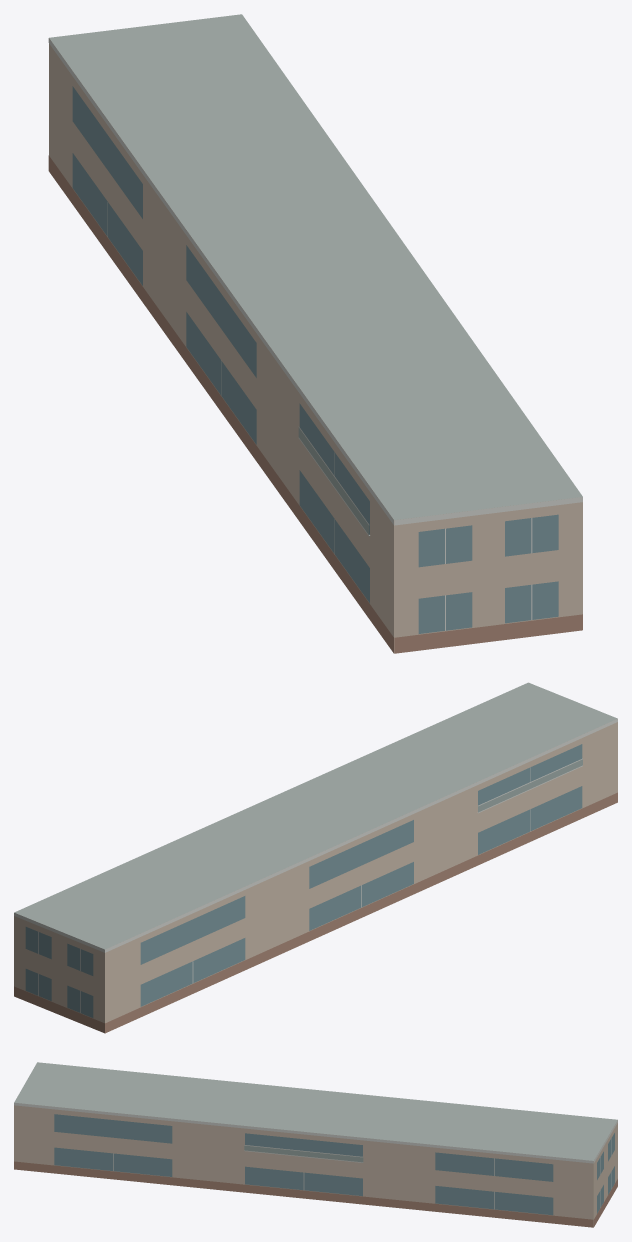
File: survey-upis-32528102.glb
3 renders of one model, top to bottom at view 1: azimuth 30°, elevation 25°; view 2: azimuth 150°, elevation 25°; view 3: azimuth 270°, elevation 25°, orthographic. The views are drawn at different scales.
Parts seen in each view (by area): view 1: survey-upis-32528102.tmp; view 2: survey-upis-32528102.tmp; view 3: survey-upis-32528102.tmp.
Part boxes in pixels (x1,y1,x2,y2): survey-upis-32528102.tmp: (48, 14, 582, 653); survey-upis-32528102.tmp: (14, 682, 617, 1033); survey-upis-32528102.tmp: (14, 1062, 617, 1227).
Bounding box in the file's own units: 19.35 × 6.1 × 50.03.
